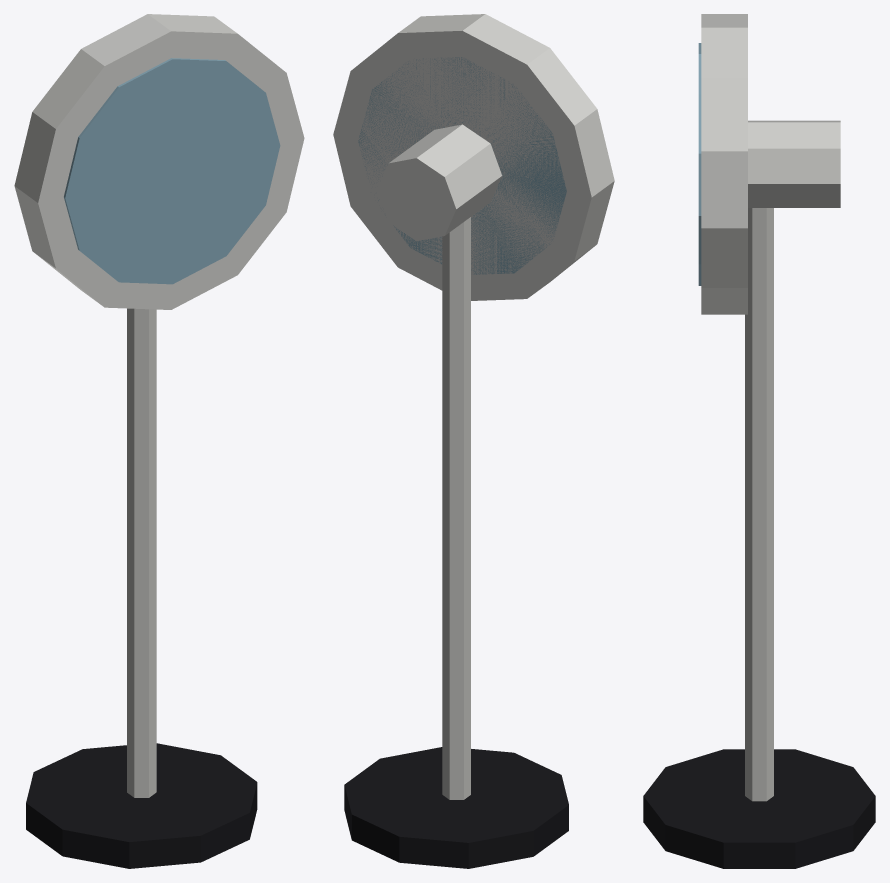
The model's file is prop_fan.glb.
3 views of the same model, side by side, from view 1: azimuth 30°, elevation 25°; view 2: azimuth 150°, elevation 25°; view 3: azimuth 270°, elevation 25° (orthographic). The views are drawn at different scales.
Visible parts, largest first — view 1: body; view 2: body; view 3: body.
Part boxes in pixels (x1,y1,x2,y2): body: [14, 14, 304, 868]; body: [333, 14, 614, 868]; body: [643, 14, 875, 868].
Bounding box in the file's own units: 0.52 × 1.51 × 0.4.
